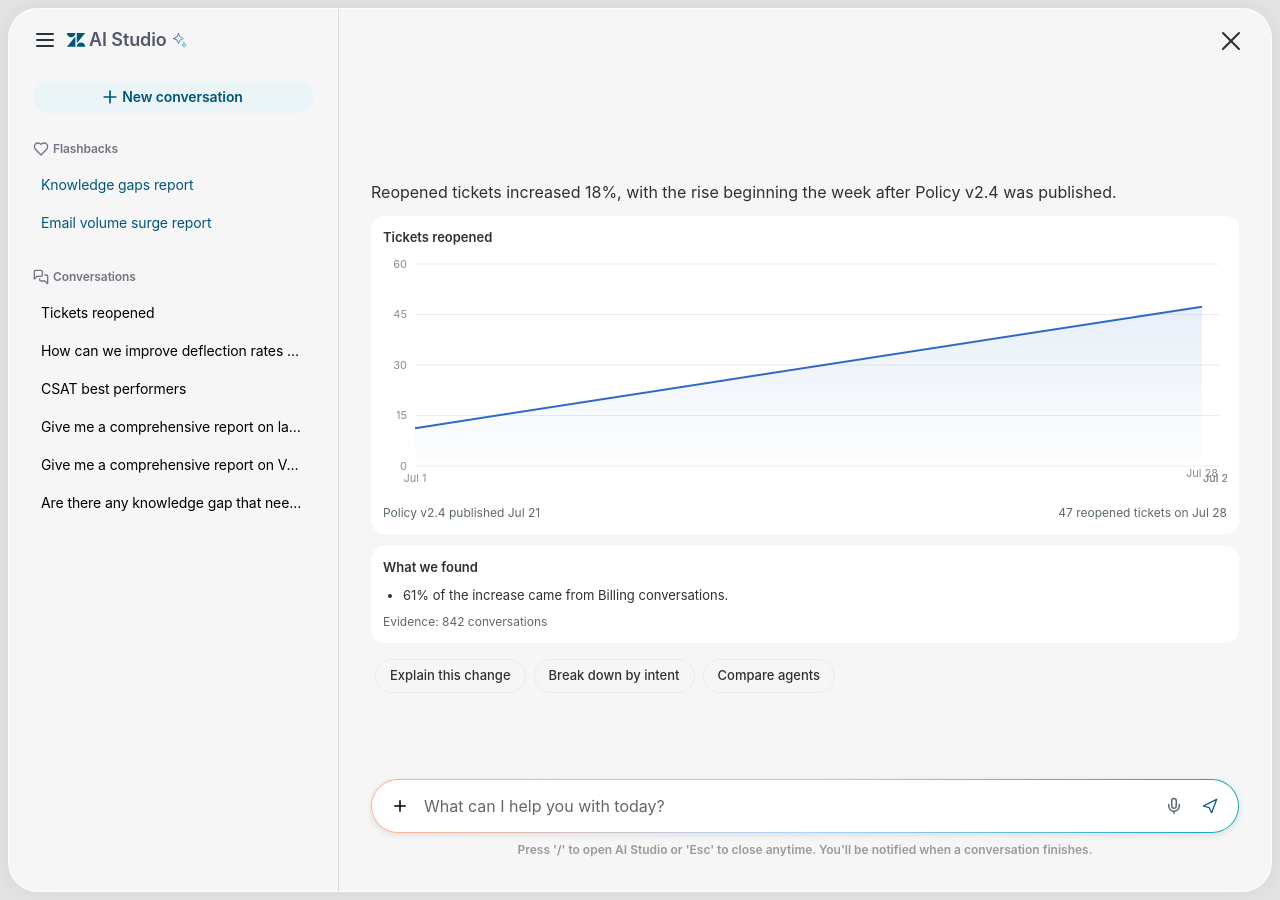
AiStudioConversation › clicking a chip whose response defines further recommendations shows the next round of chips
Click the button "Explain this change". click: [450, 676]
box: left=375, top=659, right=526, bottom=692
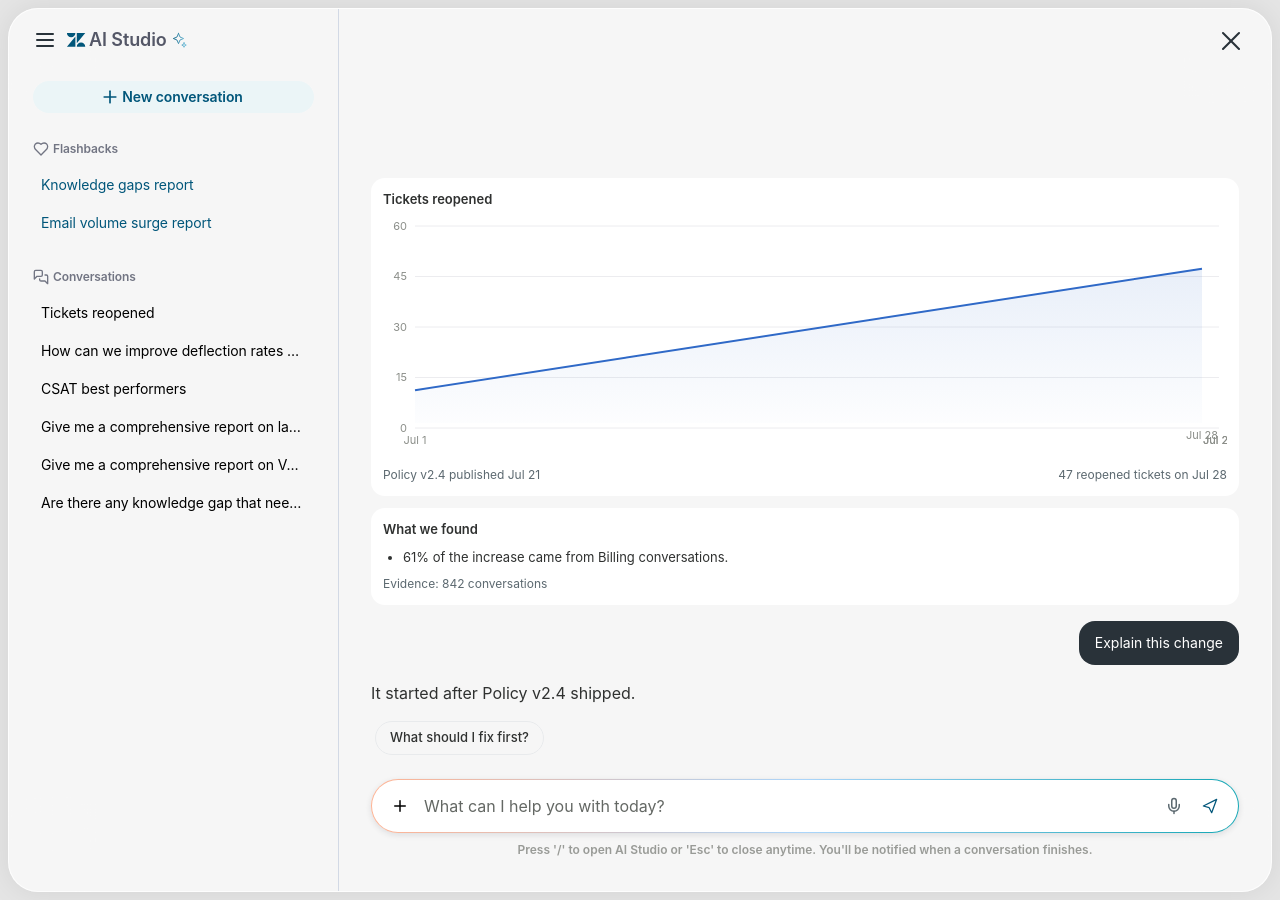
Result: the element with test id "ai-studio-conversation-body" shows "It started after Policy v2.4 shipped." at left=371, top=683, right=635, bottom=703
Result: the button "What should I fix first?" is shown
Click the button "What should I fix first?". click: [459, 738]
box: left=375, top=721, right=544, bottom=754
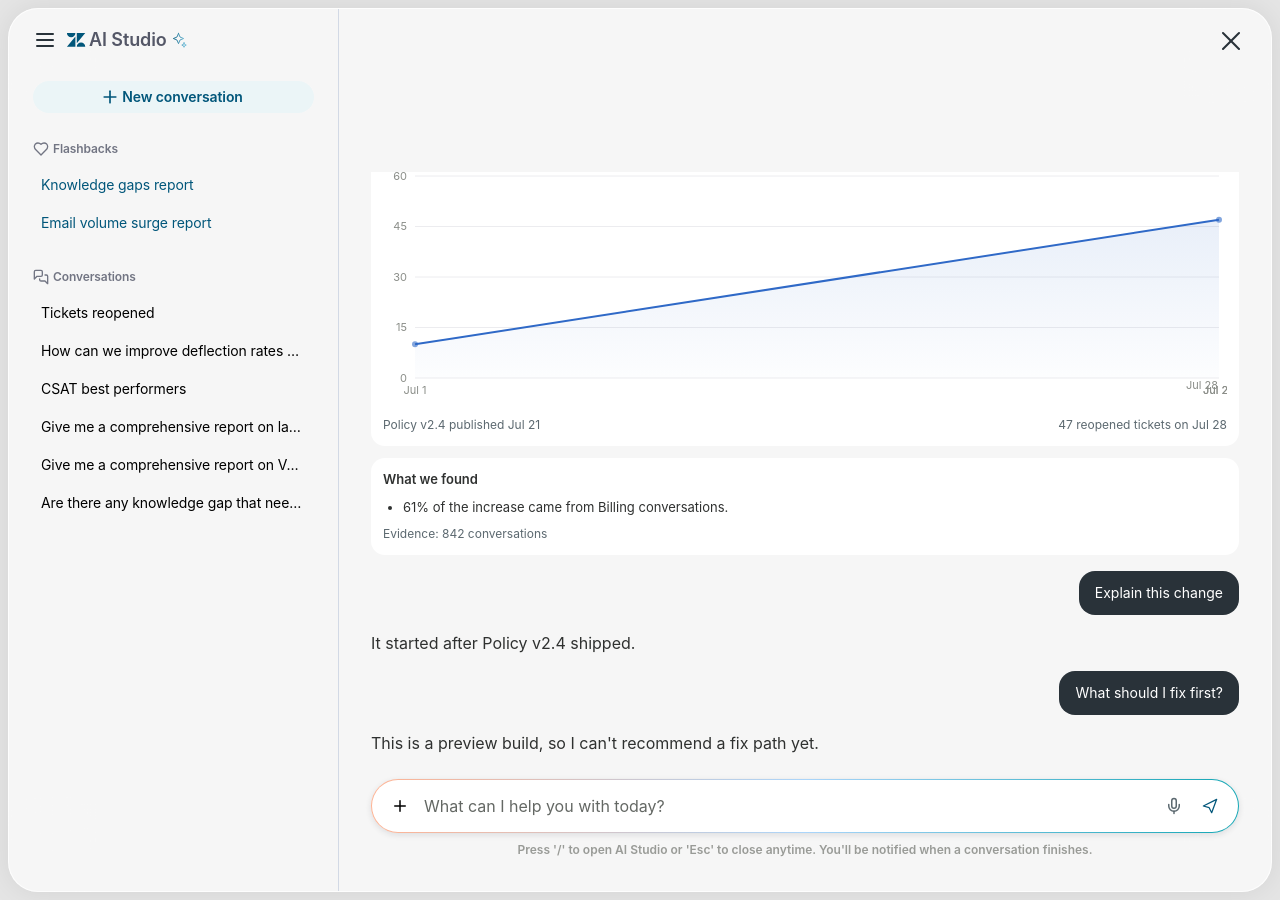
Result: the element with test id "ai-studio-conversation-body" shows "This is a preview build, so I can't recommend a fix path yet." at left=371, top=733, right=819, bottom=753
